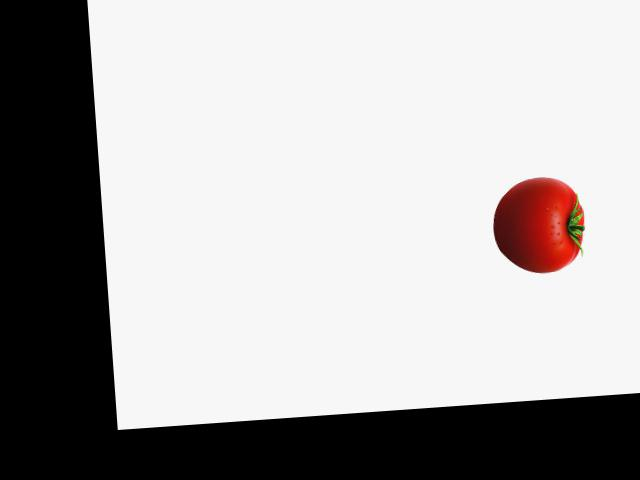tomato: (490, 185, 587, 276)
